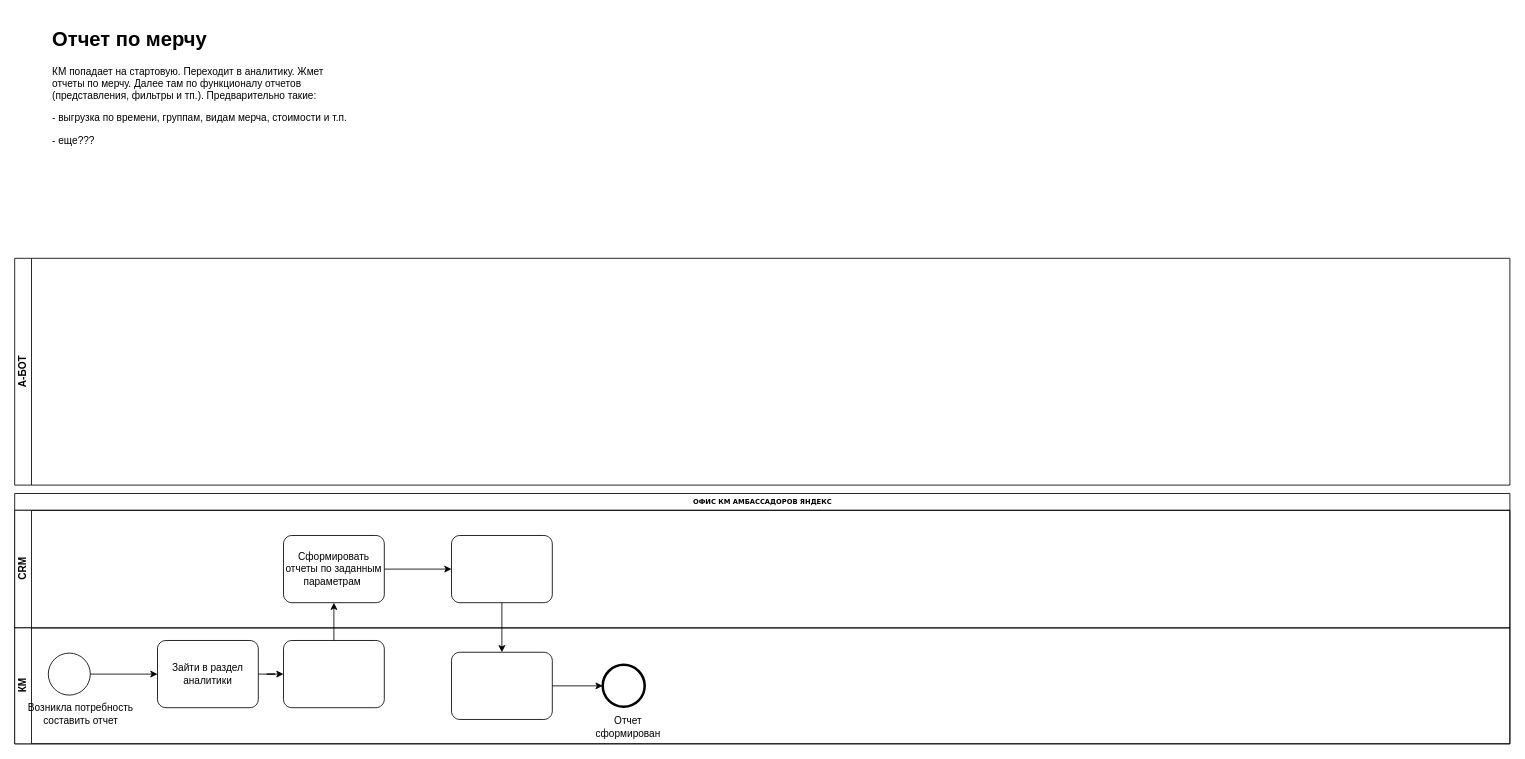
This 1525x759 diagram has some shape labels left out. Here are the shapes that lost their labels. From the top down, the box of each, then its label:
(451, 535, 552, 603): Выгрузить отчет отчет
(283, 640, 384, 708): Сформировать отчет по мерчу выбрав необходимые параметры
(451, 651, 552, 719): Посмотреть отчет
